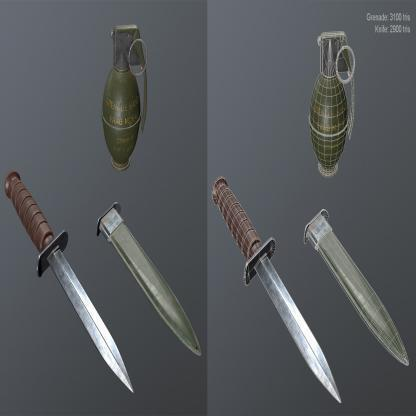Grenade: (310, 29, 356, 180), (104, 21, 147, 168)
Knife: (211, 176, 342, 404), (4, 171, 134, 394)
